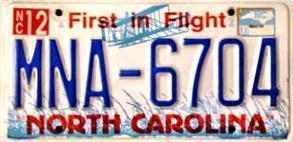placa de veiculo: (5, 4, 292, 135)
